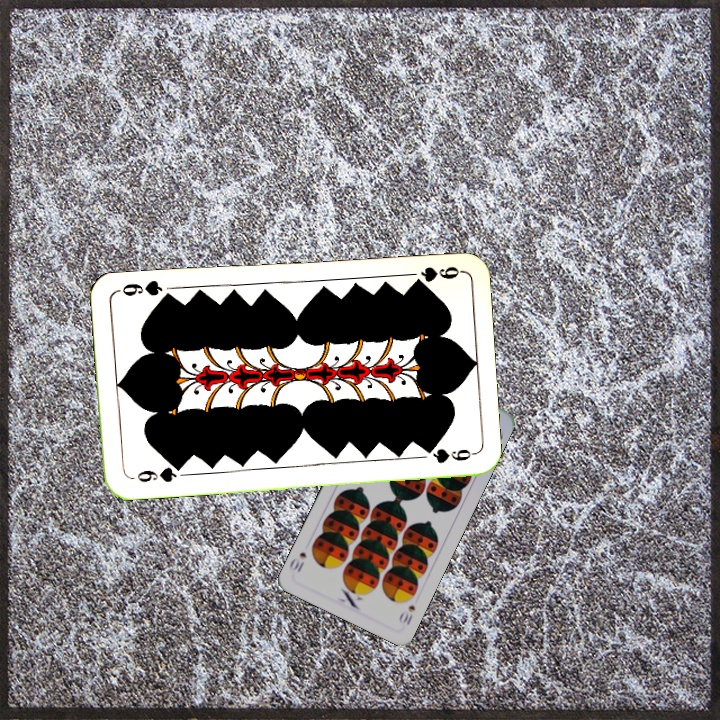G9: (127, 461, 185, 485), (409, 262, 463, 287)
S10: (395, 601, 418, 628)
